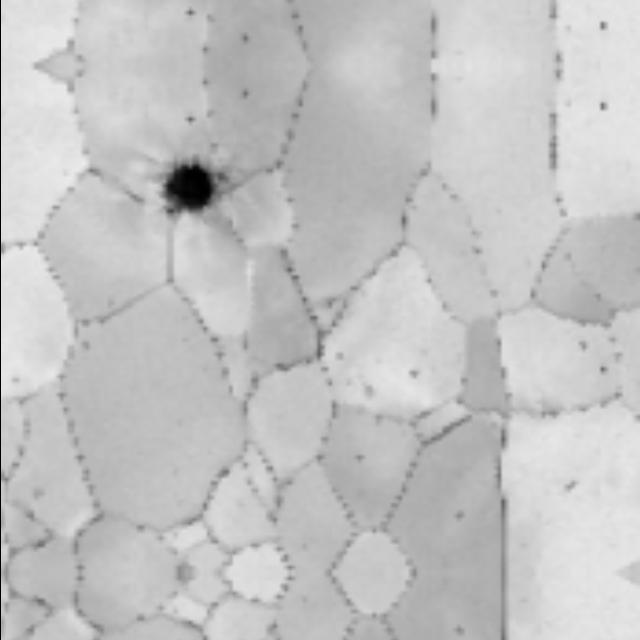good_void: (139, 146, 233, 225), (230, 83, 258, 112), (230, 21, 258, 50), (558, 473, 582, 500), (319, 289, 341, 316), (572, 334, 595, 357), (448, 508, 469, 524), (448, 624, 469, 640), (349, 452, 367, 469), (596, 99, 612, 117), (596, 16, 612, 34), (595, 361, 612, 377), (183, 112, 201, 127), (183, 6, 201, 21), (406, 368, 422, 382)
